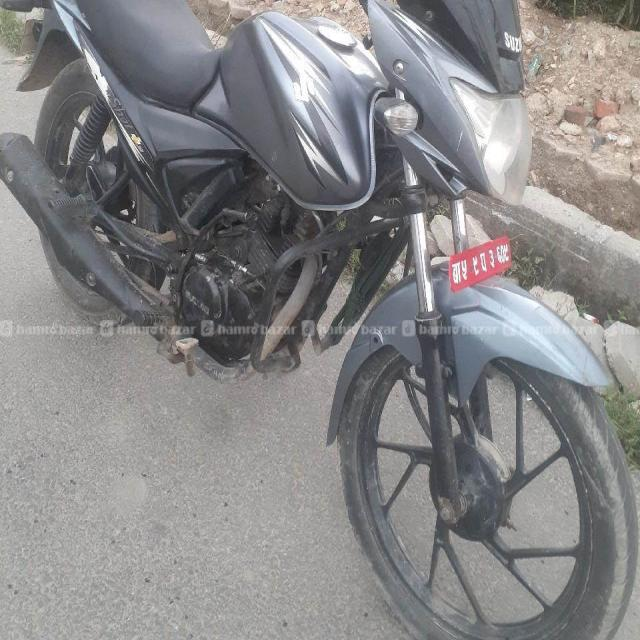License-plate: (448, 228, 515, 295)
